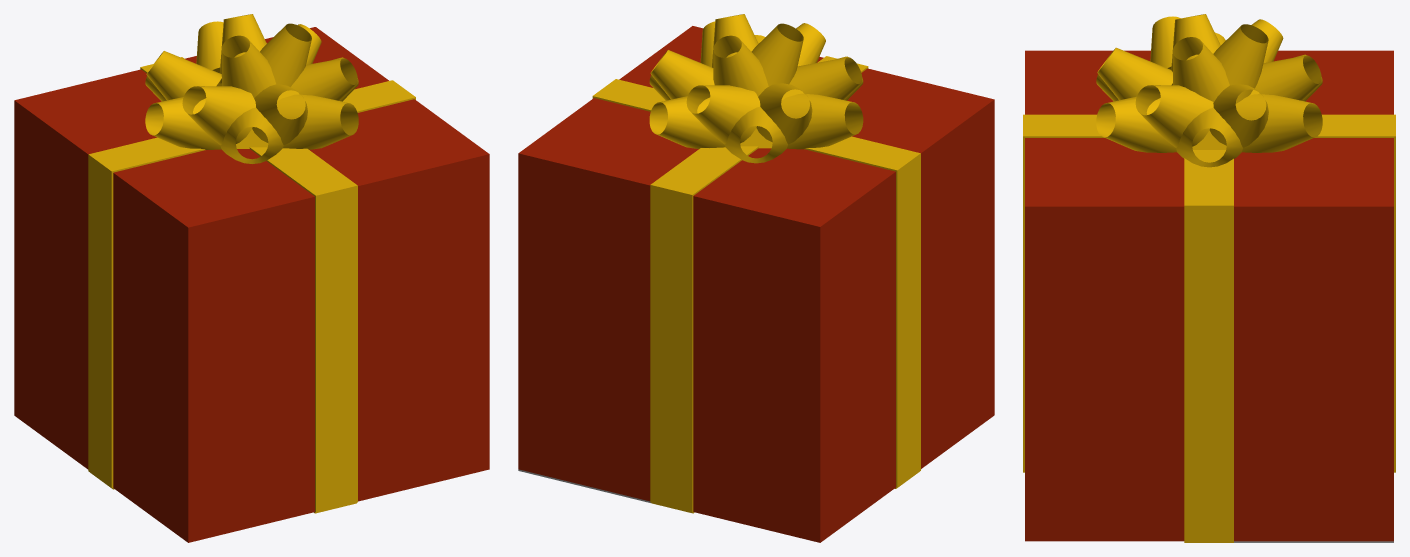
Rendered from Present_1.fbx.
The picture shows the model from 3 angles, left to right: view 1: azimuth 30°, elevation 25°; view 2: azimuth 150°, elevation 25°; view 3: azimuth 270°, elevation 25°; orthographic projection. The views are drawn at different scales.
Visible parts, largest first — view 1: Present_1; view 2: Present_1; view 3: Present_1.
Boxes of the visible parts, left/top/right/bottom form: Present_1: left=14, top=14, right=489, bottom=542; Present_1: left=518, top=14, right=994, bottom=542; Present_1: left=1023, top=14, right=1395, bottom=542.
Size of the model in its own units: 30.3 by 39.58 by 30.3.
